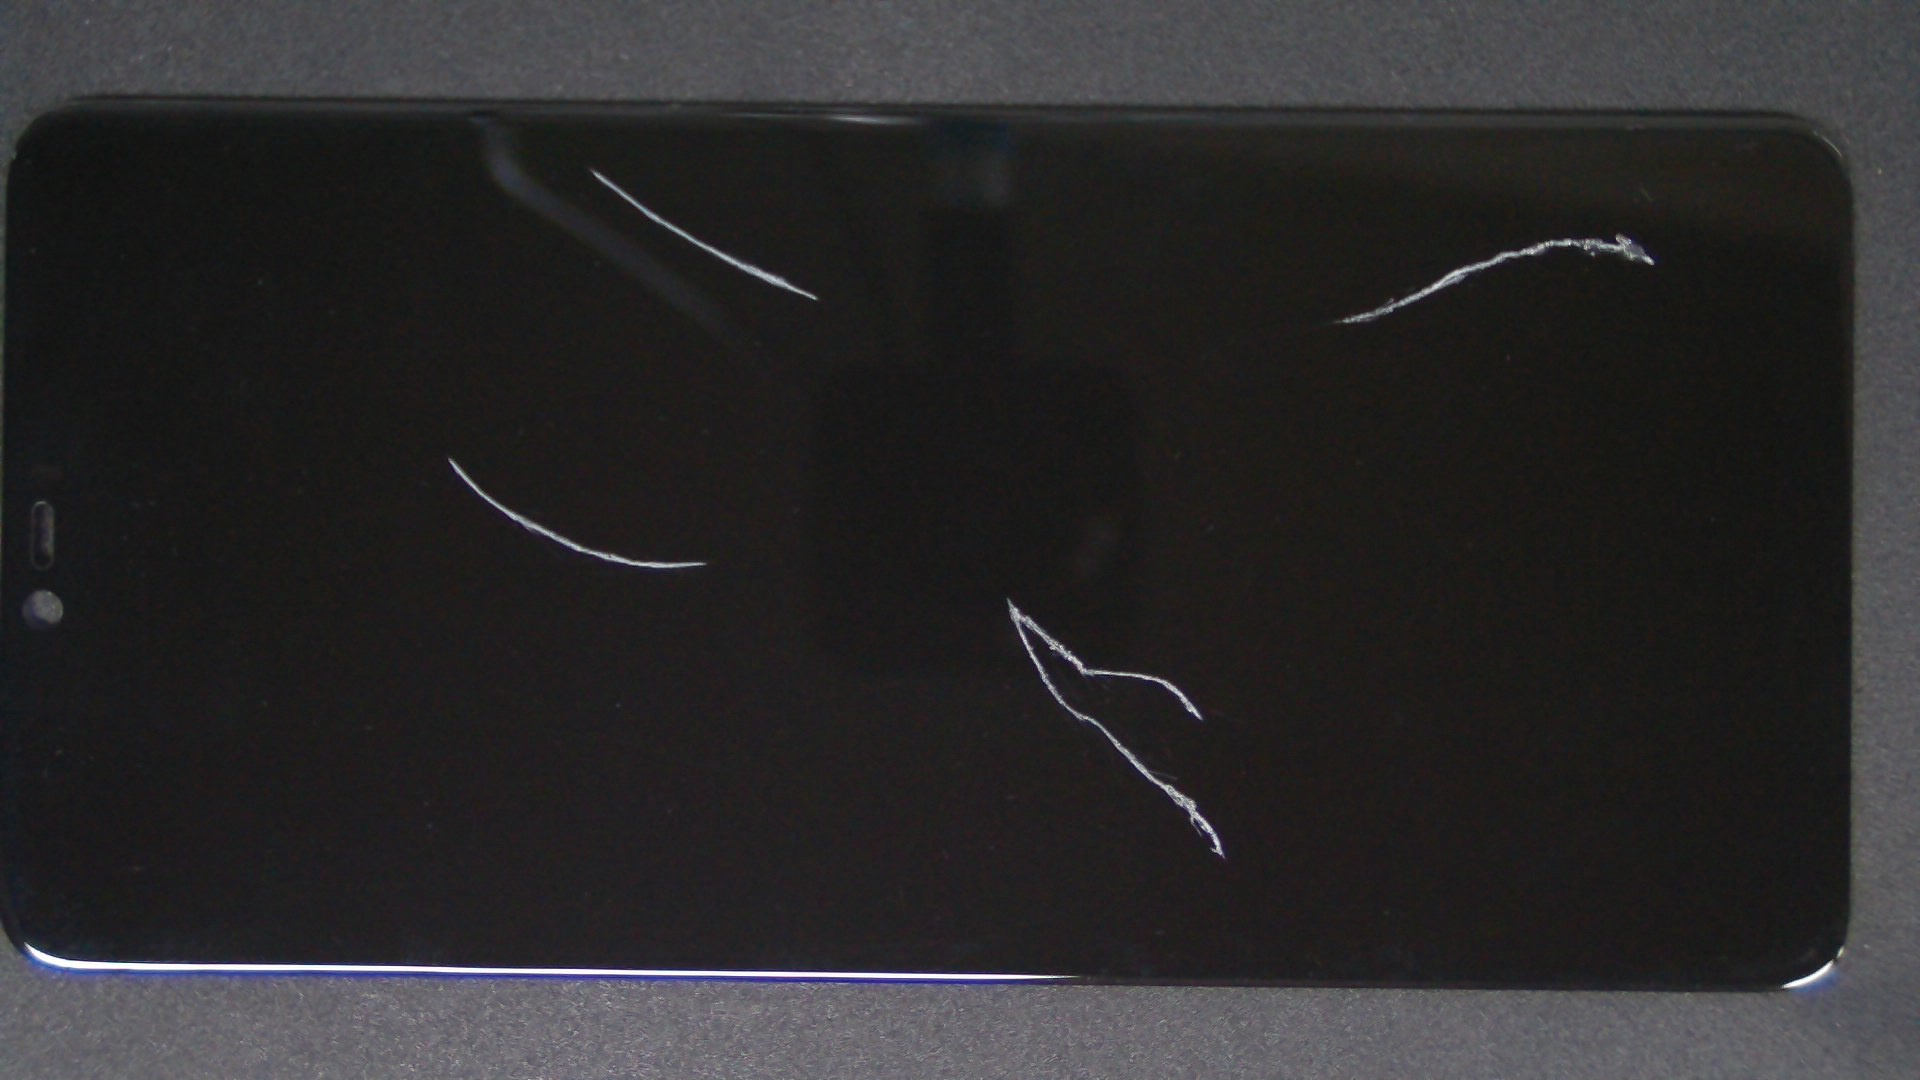oil: (505, 297, 1510, 895), (808, 115, 1920, 347), (225, 227, 674, 683), (294, 83, 884, 249)
